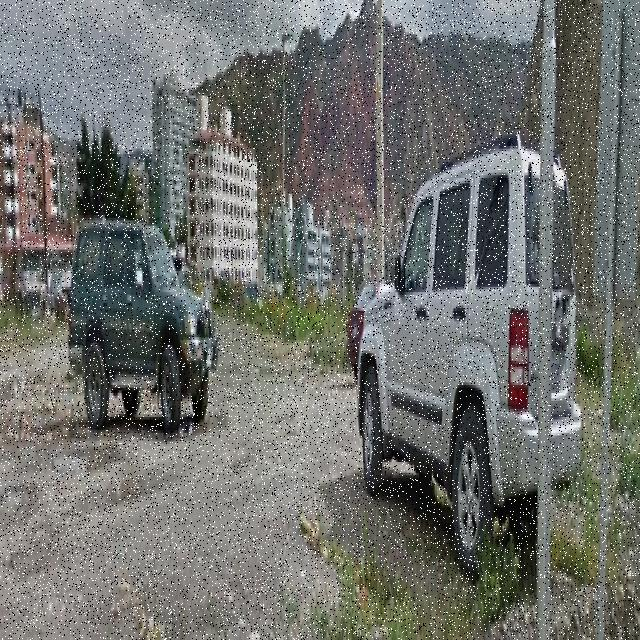cars: (353, 163, 579, 571), (74, 189, 216, 418)
